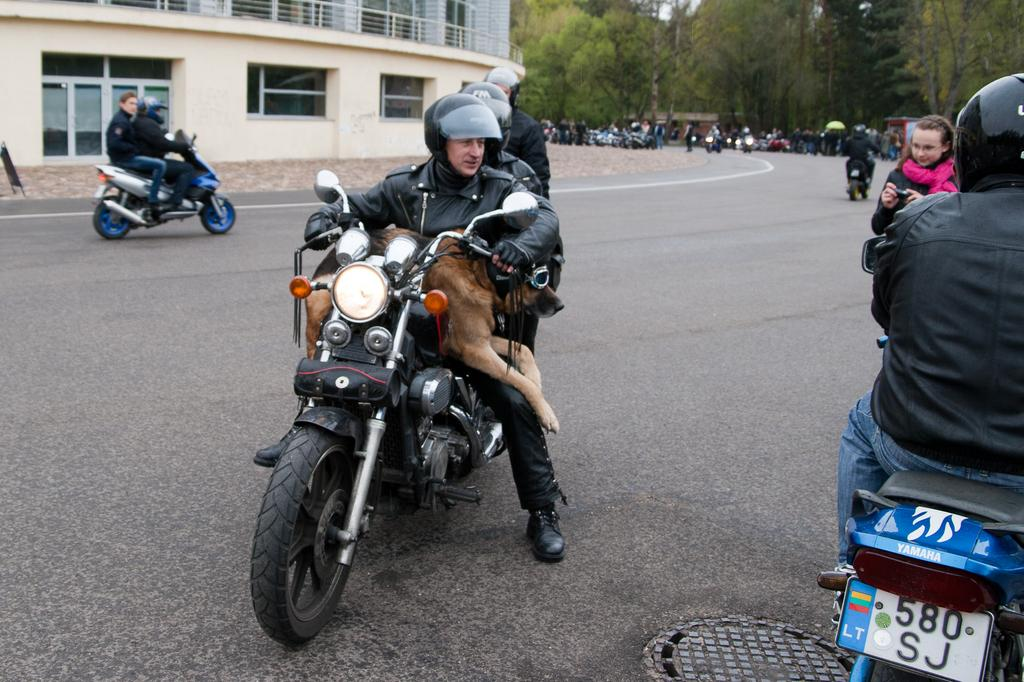helmet: (952, 73, 1024, 207), (424, 93, 503, 176), (450, 82, 512, 152), (480, 66, 521, 112), (136, 95, 169, 125), (852, 124, 869, 138)
nohelmet: (910, 113, 954, 170), (119, 91, 139, 116)
